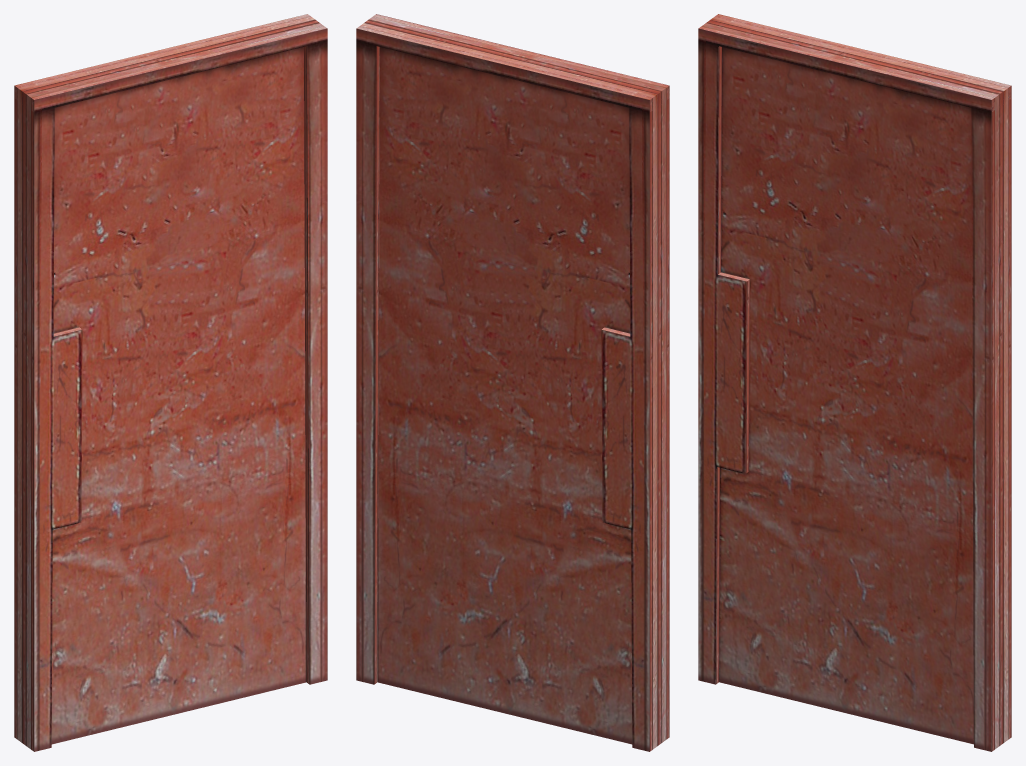
Rendered from doors4.fbx.
The picture shows the model from 3 angles, left to right: view 1: azimuth 30°, elevation 25°; view 2: azimuth 150°, elevation 25°; view 3: azimuth 330°, elevation 25°; orthographic projection.
Visible parts, largest first — view 1: door_4; view 2: door_4; view 3: door_4.
Boxes of the visible parts, x1,y1,x2,y2 form: door_4: [14, 14, 327, 751]; door_4: [356, 14, 669, 751]; door_4: [698, 14, 1011, 751].
Bounding box in the file's own units: 1.11 × 2.36 × 0.1307.
